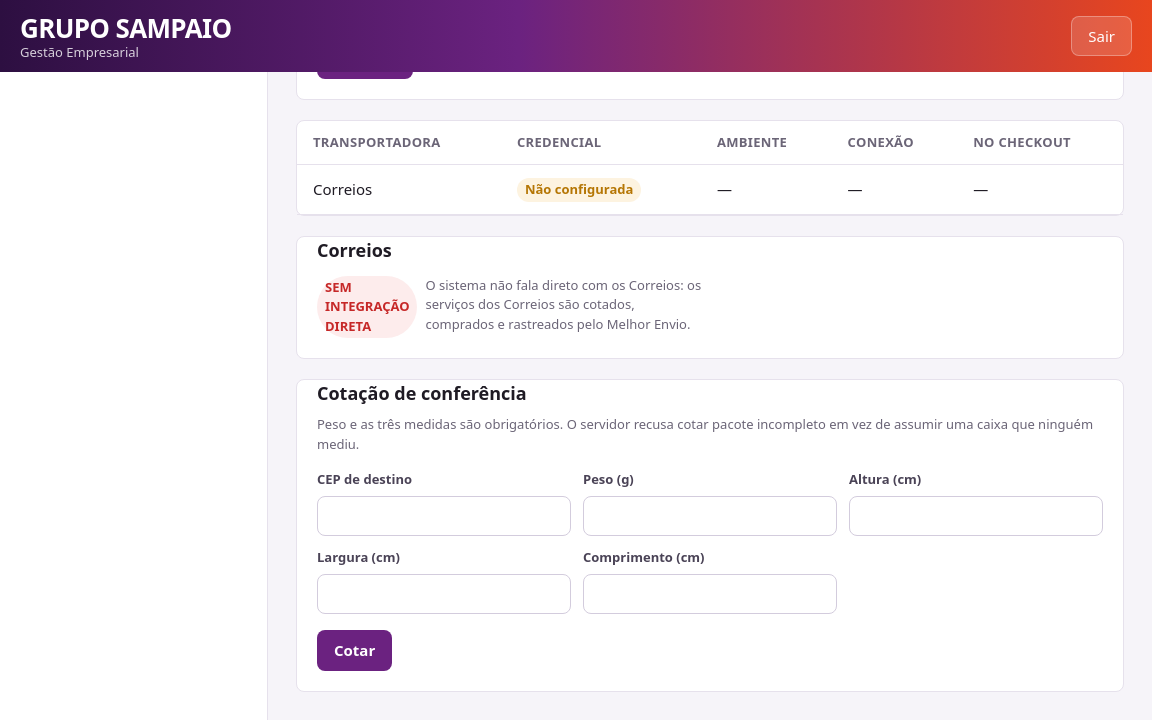
Test: cotação › resultado simulado sai com tarja, e a tarja diz para não cobrar
(page scrolled)
Step 1. Click the button "Cotar" → click(355, 650), box [317,630,392,670]
(page scrolled)
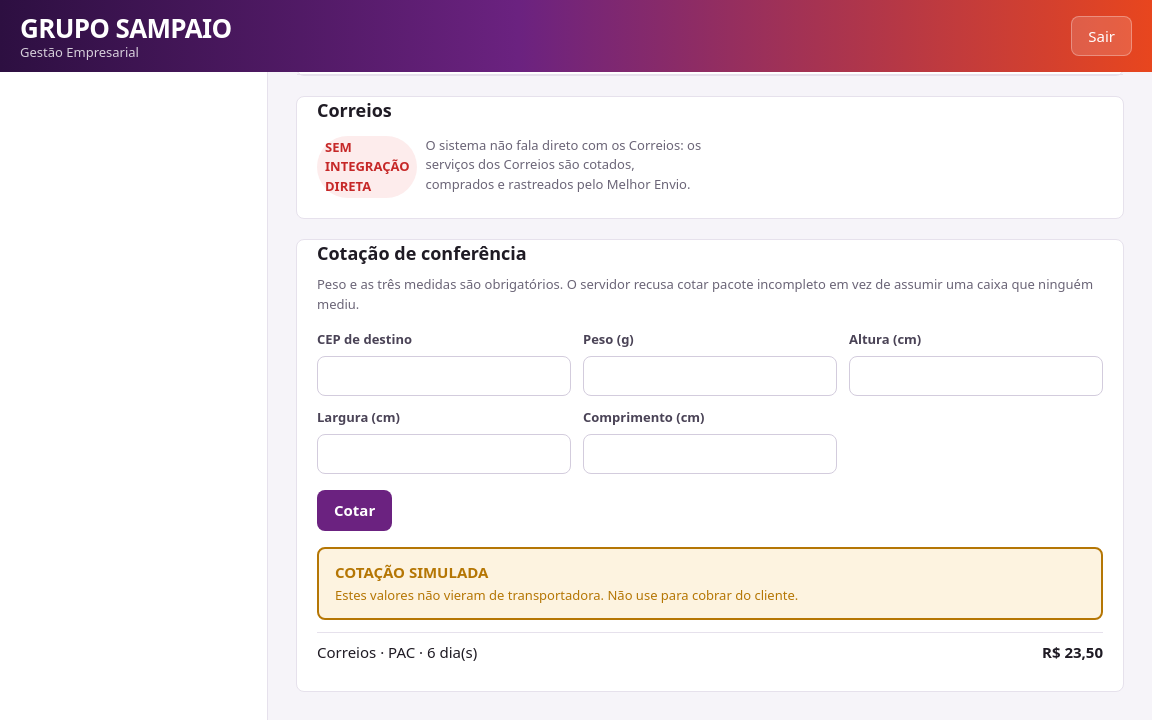
Result: the text "COTAÇÃO SIMULADA" is shown at [335,562,488,582]
Result: the text "Não use para cobrar do cliente" is shown at [335,586,798,604]
Result: the text "Correios · PAC · 6 dia(s)" is shown at [317,640,477,663]
